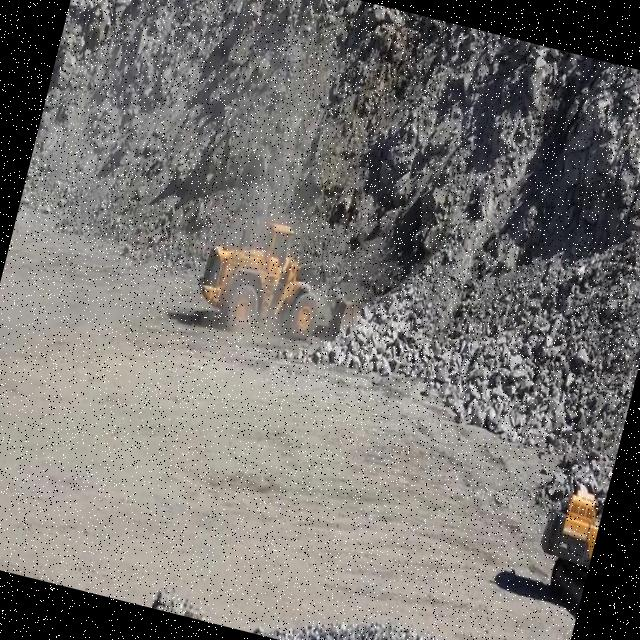Excavator: (520, 435, 618, 624)
Loader: (184, 198, 382, 370)
